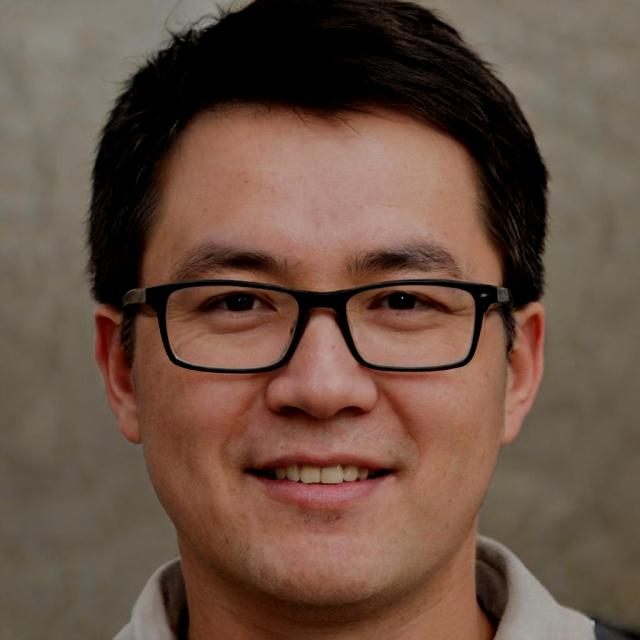lens: (167, 286, 301, 371), (346, 286, 477, 369)
